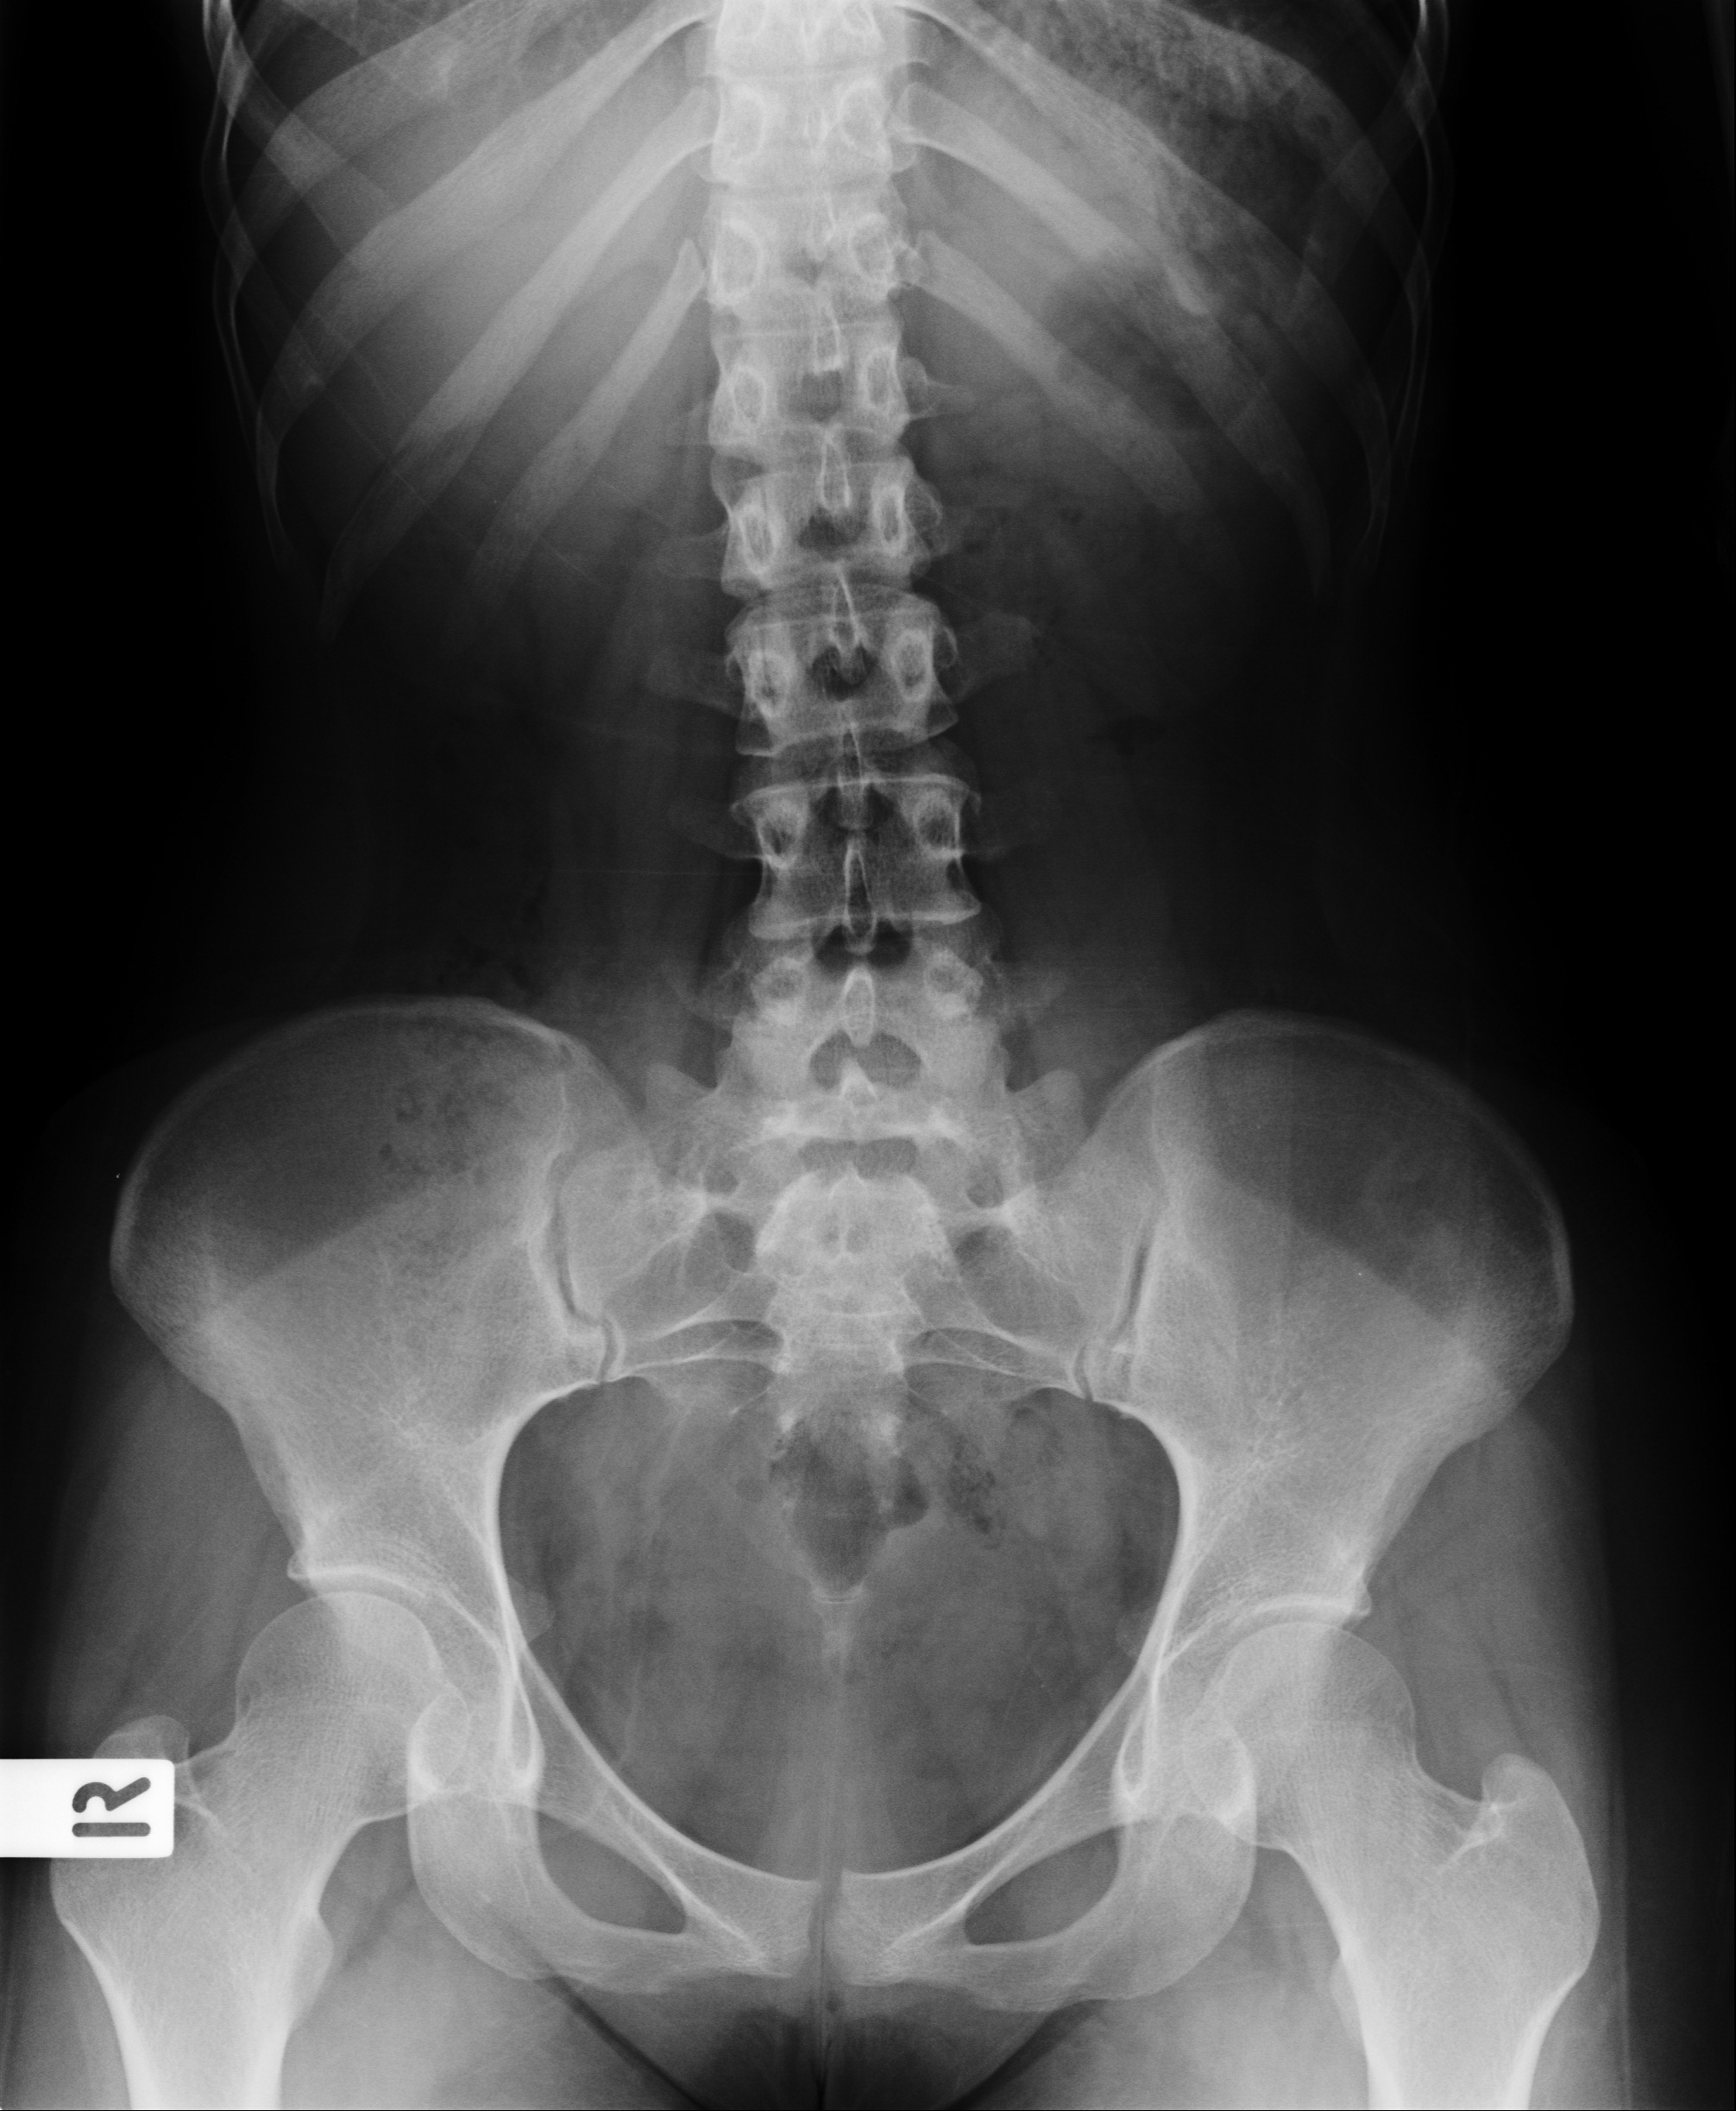lumbar scoliosis: (698, 35, 984, 1147)
